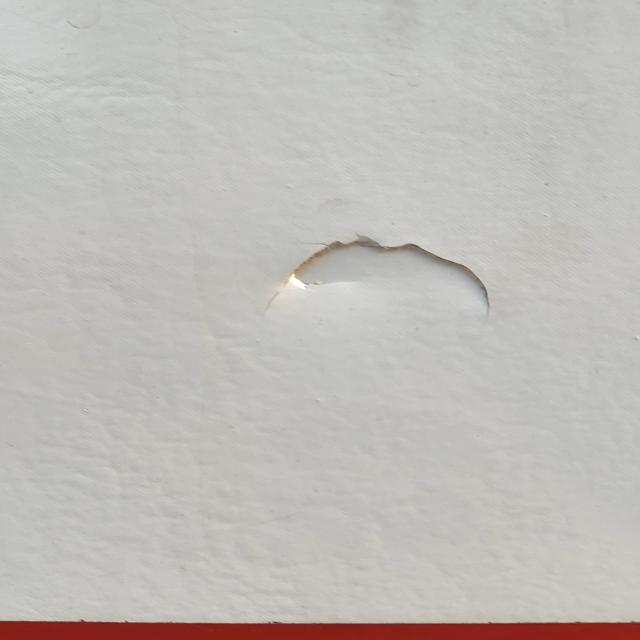Scratches: (246, 216, 496, 314)
